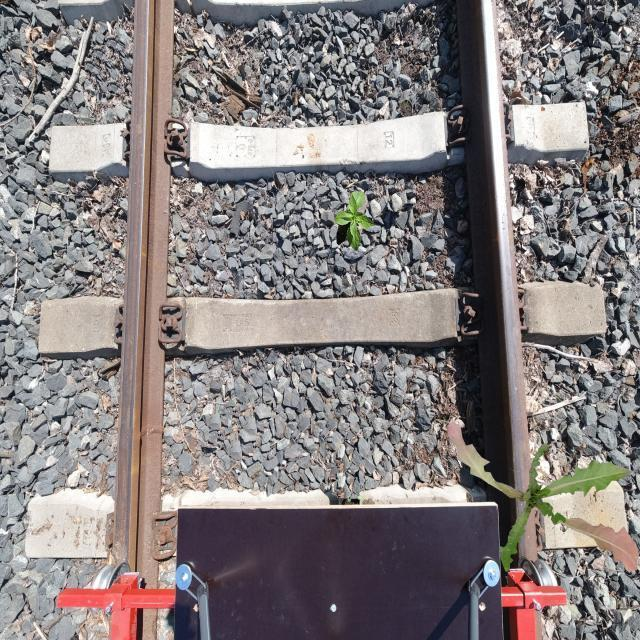Plant: (447, 422, 640, 574), (334, 191, 376, 251)
